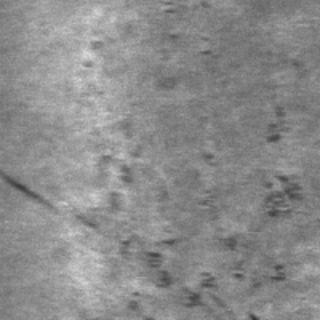rolled pit: (76, 141, 216, 307), (254, 104, 306, 278), (154, 0, 218, 68)
